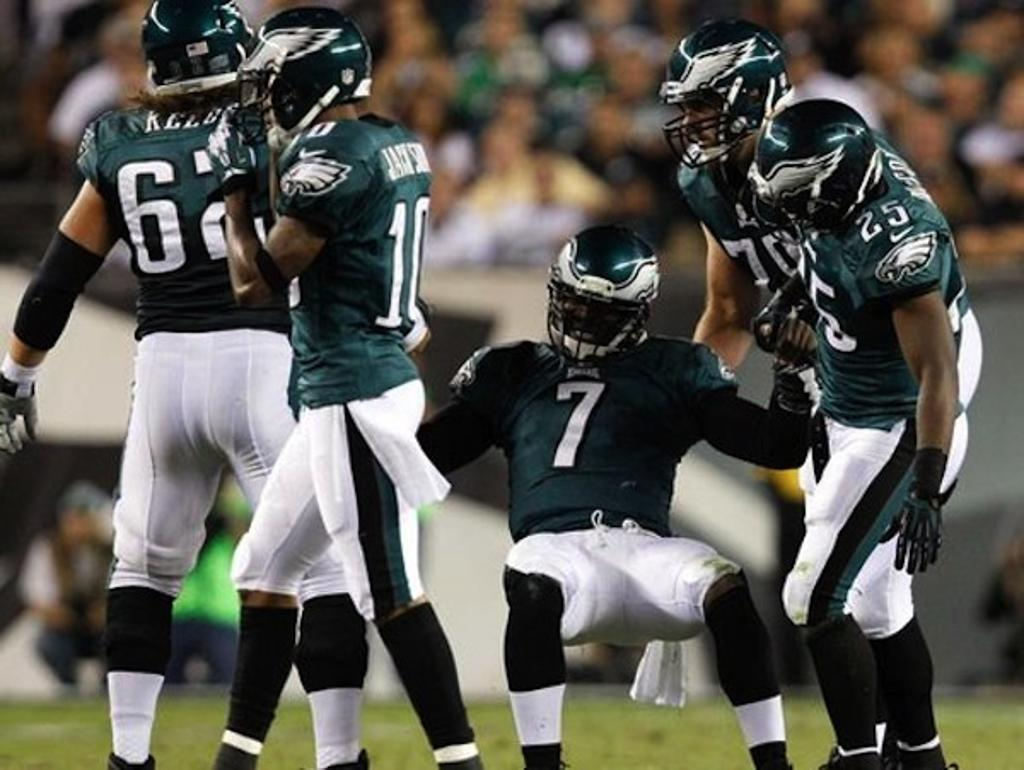face: (676, 88, 748, 170), (564, 284, 618, 358)
